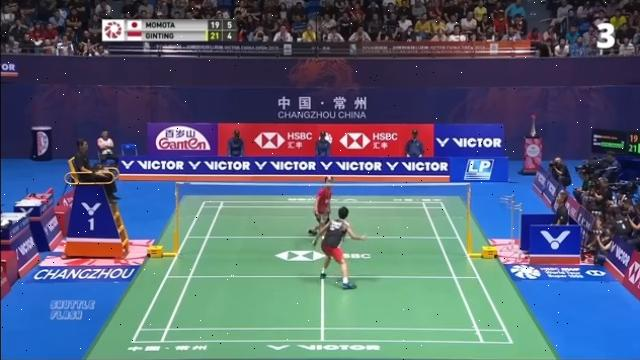Shuttlecock: (326, 172, 332, 184)
